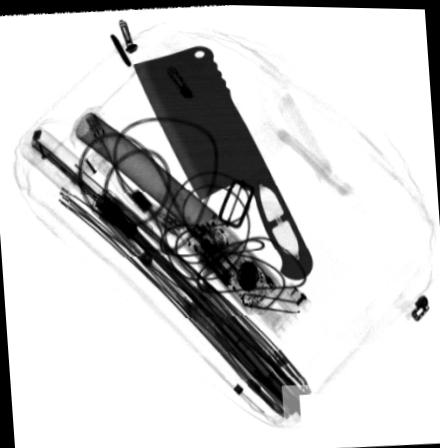Knife: (132, 43, 314, 279)
